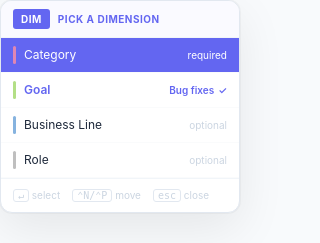
Test: DimensionPopover › cross-filters roles to roles containing the selected goal
Note: Select Role
Click the element with test id "dim-role" at (120, 160), box x1=1 y1=143 x2=239 y2=178
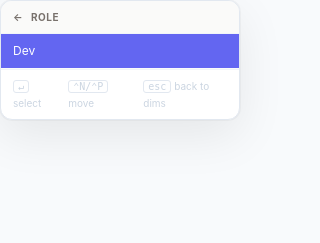
Check: the number of elements with test id "val-item" is 1, box x1=1 y1=34 x2=239 y2=69
Check: the element with test id "val-item" reads "Dev", box x1=13 y1=43 x2=35 y2=58
